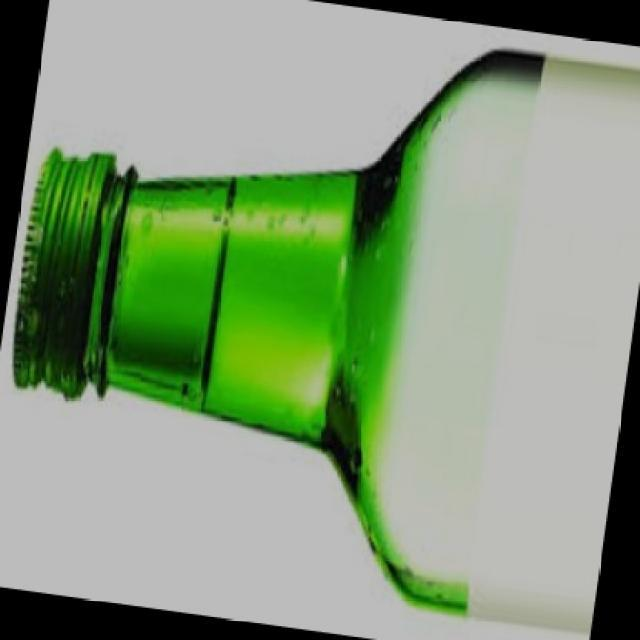Glass: (11, 46, 640, 636)
